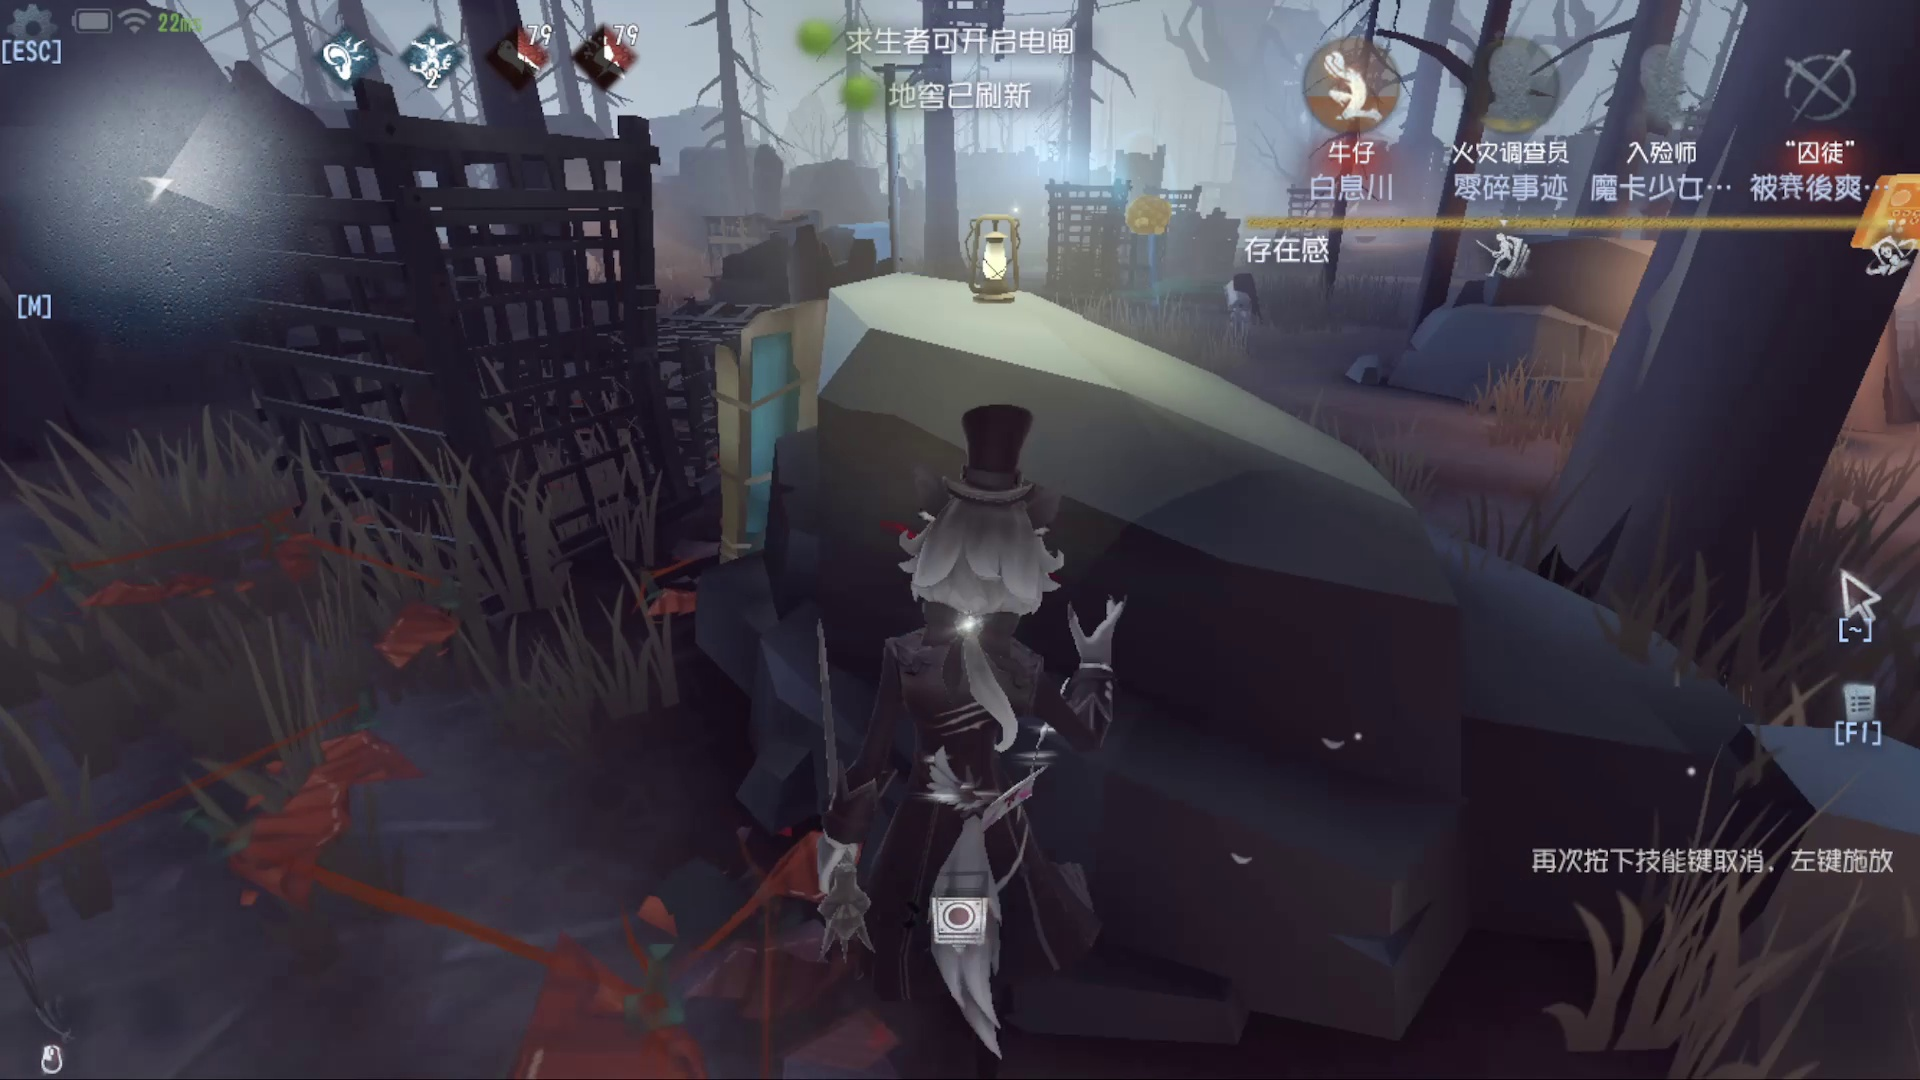木板: (676, 270, 833, 591)
